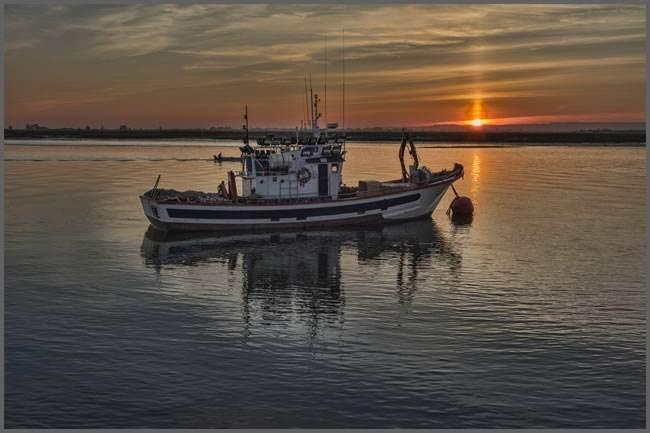otherboat: (133, 82, 470, 246)
